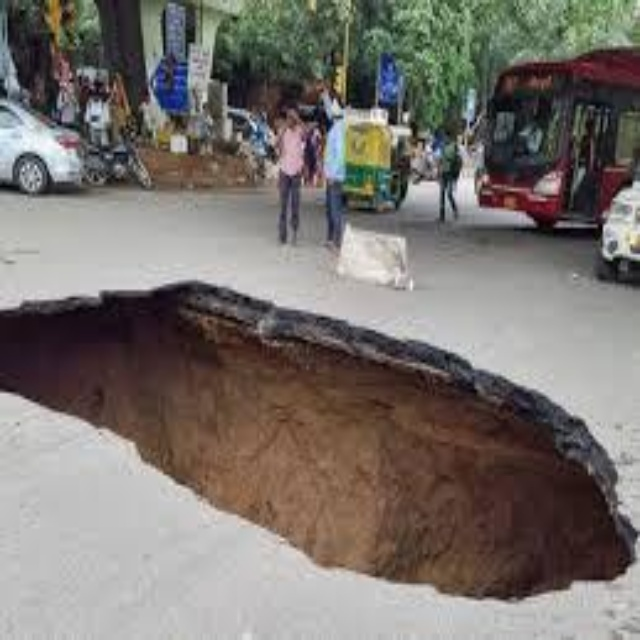pothole: (0, 280, 638, 604)
